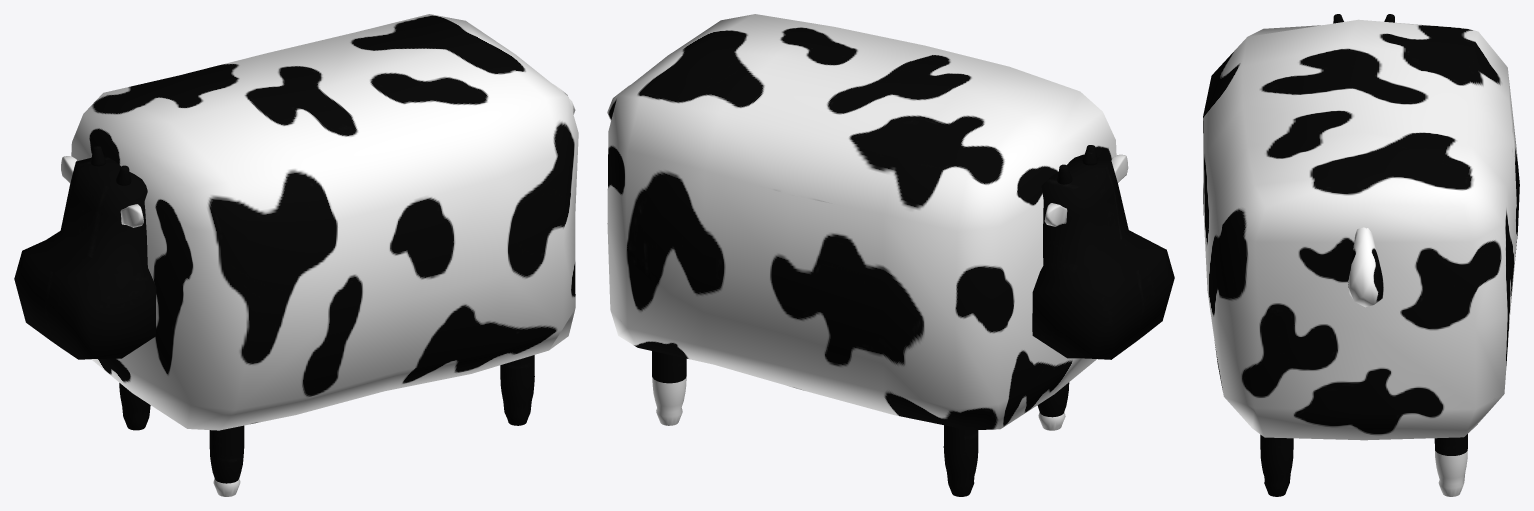
Rendered from Cow.fbx.
The picture shows the model from 3 angles, left to right: view 1: azimuth 30°, elevation 25°; view 2: azimuth 150°, elevation 25°; view 3: azimuth 270°, elevation 25°; orthographic projection. The views are drawn at different scales.
Visible parts, largest first — view 1: CowBody.001, Cowhead, Sphere.001, Cube.011; view 2: CowBody.001, Cowhead, Sphere.001, Cube.011; view 3: CowBody.001, Sphere.001, CowTile.
Boxes of the visible parts, left/top/right/bottom form: CowBody.001: left=71, top=14, right=578, bottom=430; Cowhead: left=14, top=155, right=156, bottom=359; Sphere.001: left=119, top=355, right=534, bottom=496; Cube.011: left=61, top=156, right=143, bottom=227; CowBody.001: left=607, top=14, right=1116, bottom=430; Cowhead: left=1032, top=154, right=1174, bottom=359; Sphere.001: left=652, top=351, right=1069, bottom=496; Cube.011: left=1044, top=154, right=1128, bottom=226; CowBody.001: left=1203, top=19, right=1519, bottom=440; Sphere.001: left=1260, top=434, right=1467, bottom=496; CowTile: left=1348, top=227, right=1383, bottom=307.
Size of the model in its own units: 6.7 by 4.23 by 3.61.
